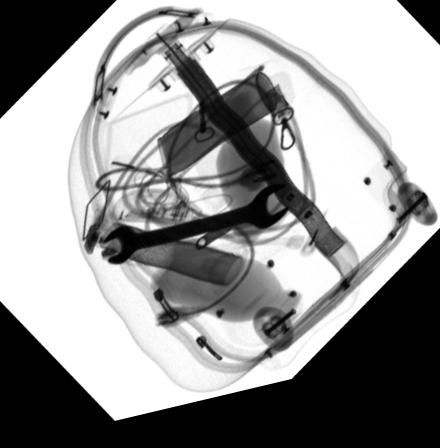Wrench: (102, 193, 290, 268)
